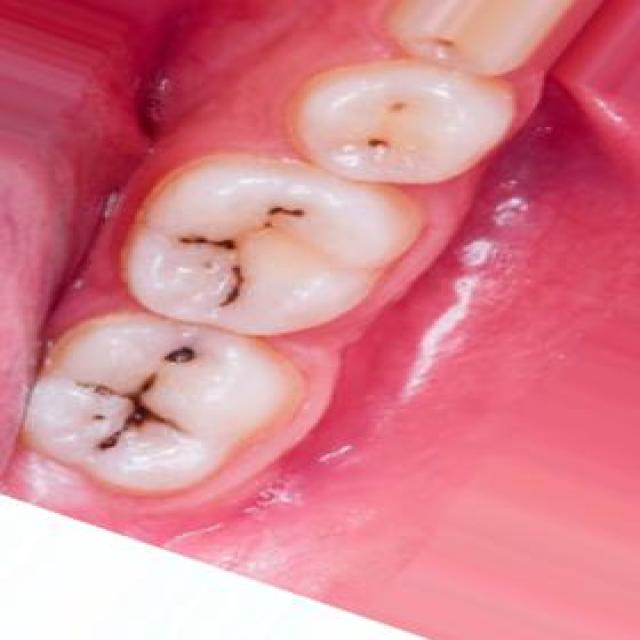caries: (55, 368, 207, 472), (175, 226, 278, 318), (248, 194, 329, 252), (354, 124, 413, 178), (160, 335, 217, 383), (375, 90, 428, 121)
